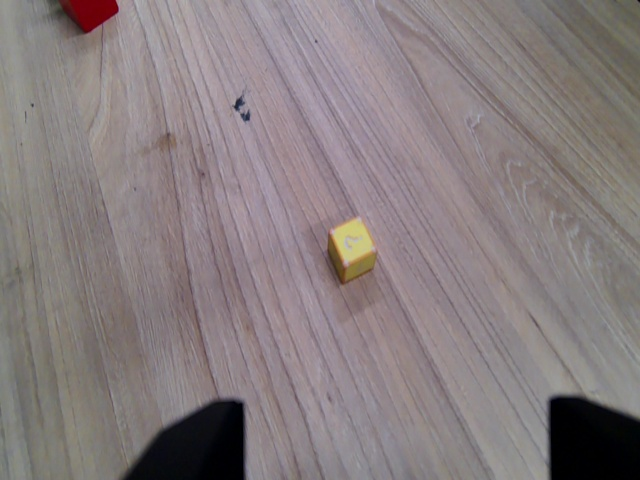lucky: (321, 213, 381, 287)
